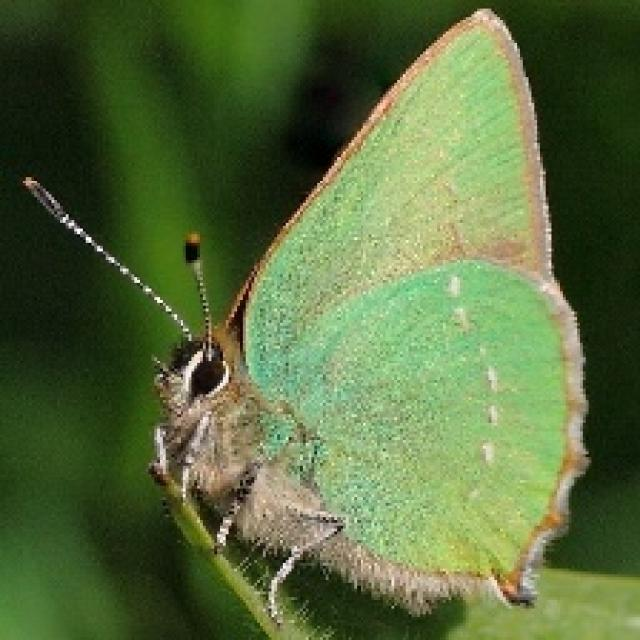butterfly: (17, 3, 592, 626)
